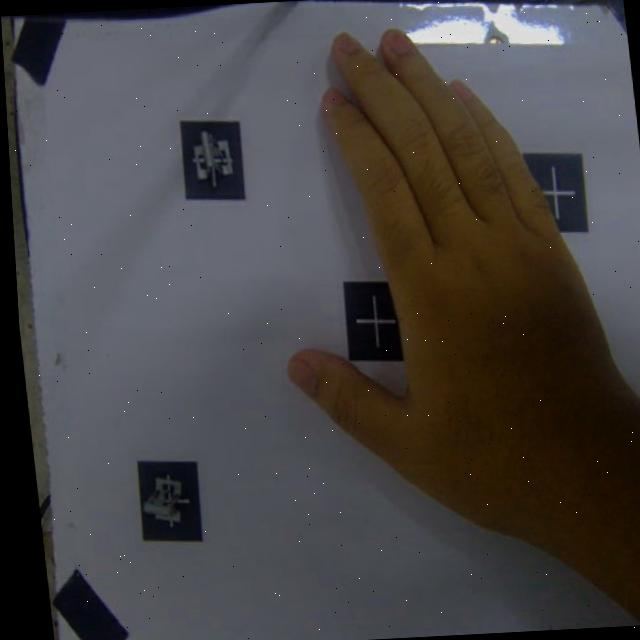pick2: (178, 119, 244, 200)
pick5: (136, 460, 207, 541)
